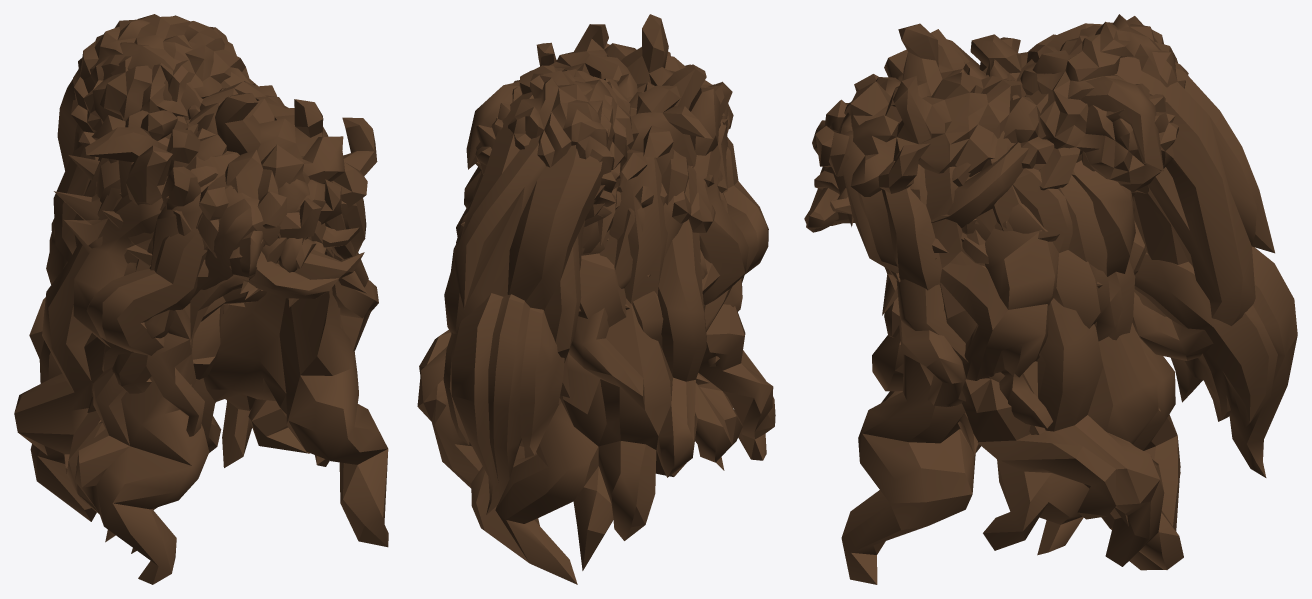
File: sidekick.glb
The picture shows the model from 3 angles, left to right: view 1: azimuth 30°, elevation 25°; view 2: azimuth 150°, elevation 25°; view 3: azimuth 270°, elevation 25°; orthographic projection. The views are drawn at different scales.
Parts seen in each view (by area): view 1: hair_HUMN09, hair_HUMN02, hair_HUMN05, hair_HUMN10, hair_HUMN07, hair_HUMN03, hair_HUMN04, hair_HUMN01, hair_HUMN06; view 2: hair_HUMN09, hair_HUMN07, hair_HUMN04, hair_HUMN02, hair_HUMN05, hair_HUMN10, hair_HUMN03, hair_HUMN06; view 3: hair_HUMN09, hair_HUMN05, hair_HUMN07, hair_HUMN02, hair_HUMN04, hair_HUMN10, hair_HUMN08, hair_HUMN03, hair_HUMN01, hair_HUMN06.
Boxes of the visible parts, <box> form: hair_HUMN09: <box>14,157,388,584</box>; hair_HUMN02: <box>85,72,377,293</box>; hair_HUMN05: <box>73,160,378,412</box>; hair_HUMN10: <box>71,14,257,160</box>; hair_HUMN07: <box>53,27,286,436</box>; hair_HUMN03: <box>54,119,356,313</box>; hair_HUMN04: <box>46,212,364,321</box>; hair_HUMN01: <box>98,236,357,423</box>; hair_HUMN06: <box>165,104,309,238</box>; hair_HUMN09: <box>417,119,775,584</box>; hair_HUMN07: <box>444,79,744,362</box>; hair_HUMN04: <box>443,293,570,514</box>; hair_HUMN02: <box>536,14,732,205</box>; hair_HUMN05: <box>456,89,768,405</box>; hair_HUMN10: <box>475,65,638,240</box>; hair_HUMN03: <box>461,80,728,313</box>; hair_HUMN06: <box>617,74,653,108</box>; hair_HUMN09: <box>841,164,1183,584</box>; hair_HUMN05: <box>812,74,1160,455</box>; hair_HUMN07: <box>884,23,1274,360</box>; hair_HUMN02: <box>815,23,1082,196</box>; hair_HUMN04: <box>804,187,1297,477</box>; hair_HUMN10: <box>961,14,1188,233</box>; hair_HUMN08: <box>931,142,1028,240</box>; hair_HUMN03: <box>831,74,1134,288</box>; hair_HUMN01: <box>830,203,1052,282</box>; hair_HUMN06: <box>836,59,1019,133</box>.
Bounding box in the file's own units: 1.73 × 2.84 × 2.24.
